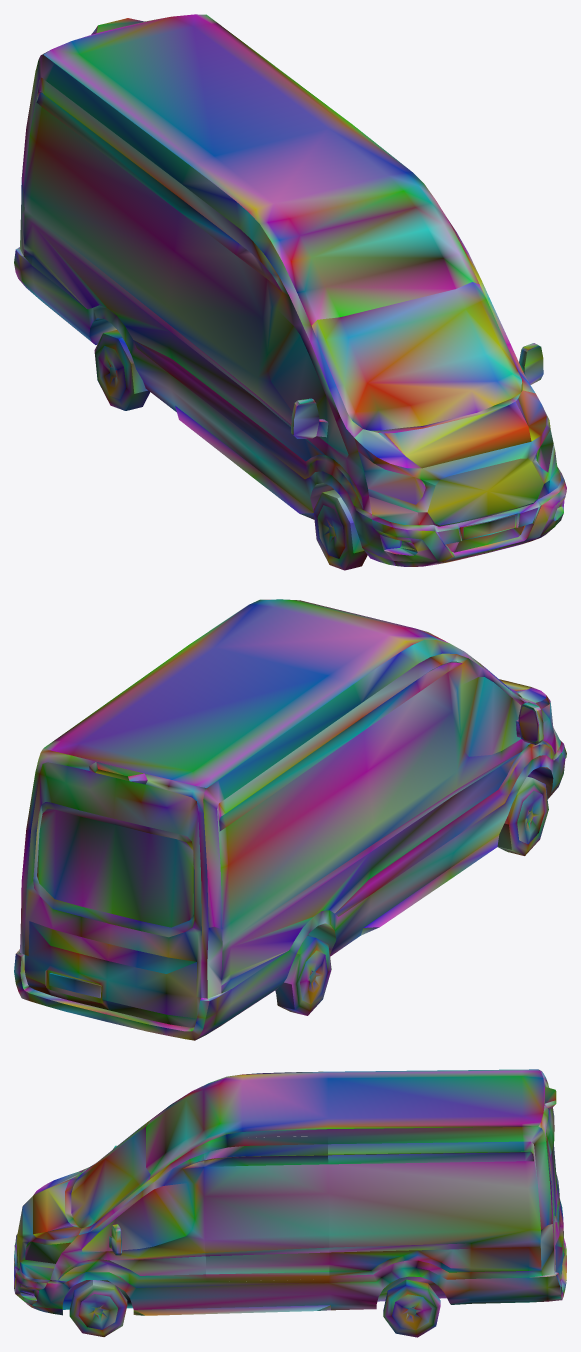
File: transit (1).fbx
3 views of the same model, one above another, from view 1: azimuth 30°, elevation 25°; view 2: azimuth 150°, elevation 25°; view 3: azimuth 270°, elevation 25° (orthographic). The views are drawn at different scales.
Parts seen in each view (by area): view 1: transit; view 2: transit, transit_arkakapi_sag, transit_arkakapi_sol; view 3: transit, transit_yankapi, transit_arkakapi_sol.
Part boxes in pixels (bbox=[...]): transit: bbox=[14, 14, 566, 570]; transit: bbox=[14, 599, 566, 1040]; transit_arkakapi_sag: bbox=[106, 778, 201, 1027]; transit_arkakapi_sol: bbox=[24, 762, 116, 1010]; transit: bbox=[14, 1069, 566, 1337]; transit_yankapi: bbox=[203, 1136, 329, 1281]; transit_arkakapi_sol: bbox=[546, 1109, 564, 1280].
Size of the model in its own units: 487 by 539 by 1298.
